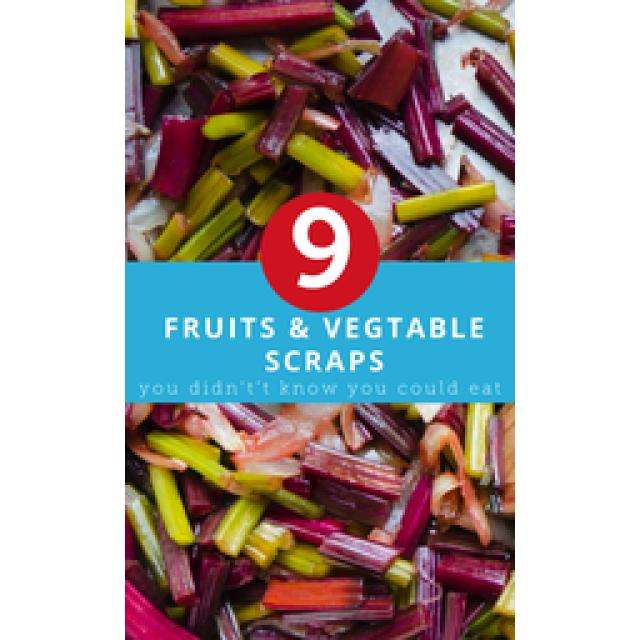food_waste: (125, 0, 510, 258), (125, 402, 512, 638)
